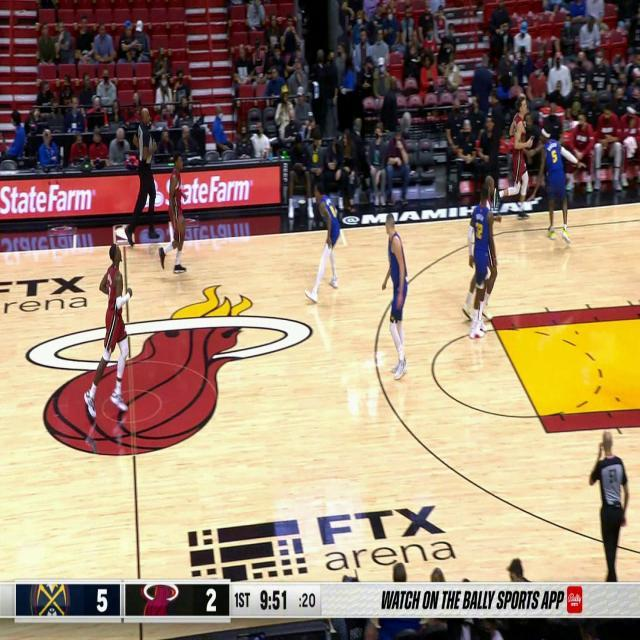rim: (176, 216, 186, 233)
